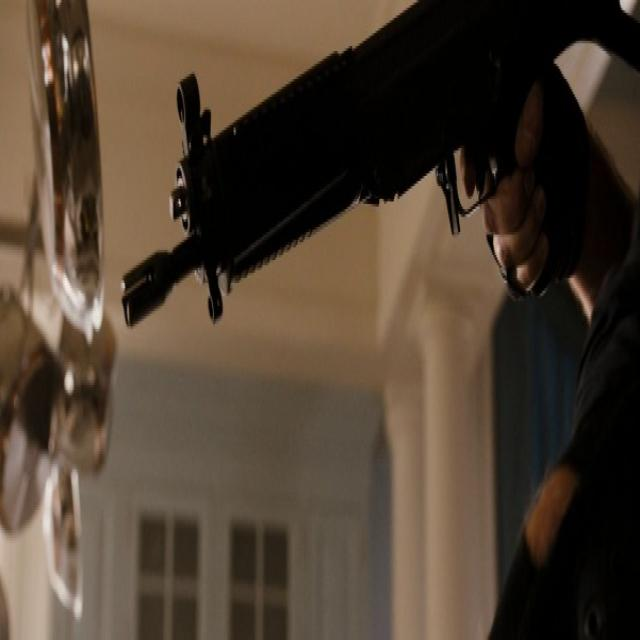rifle: (119, 1, 640, 340)
